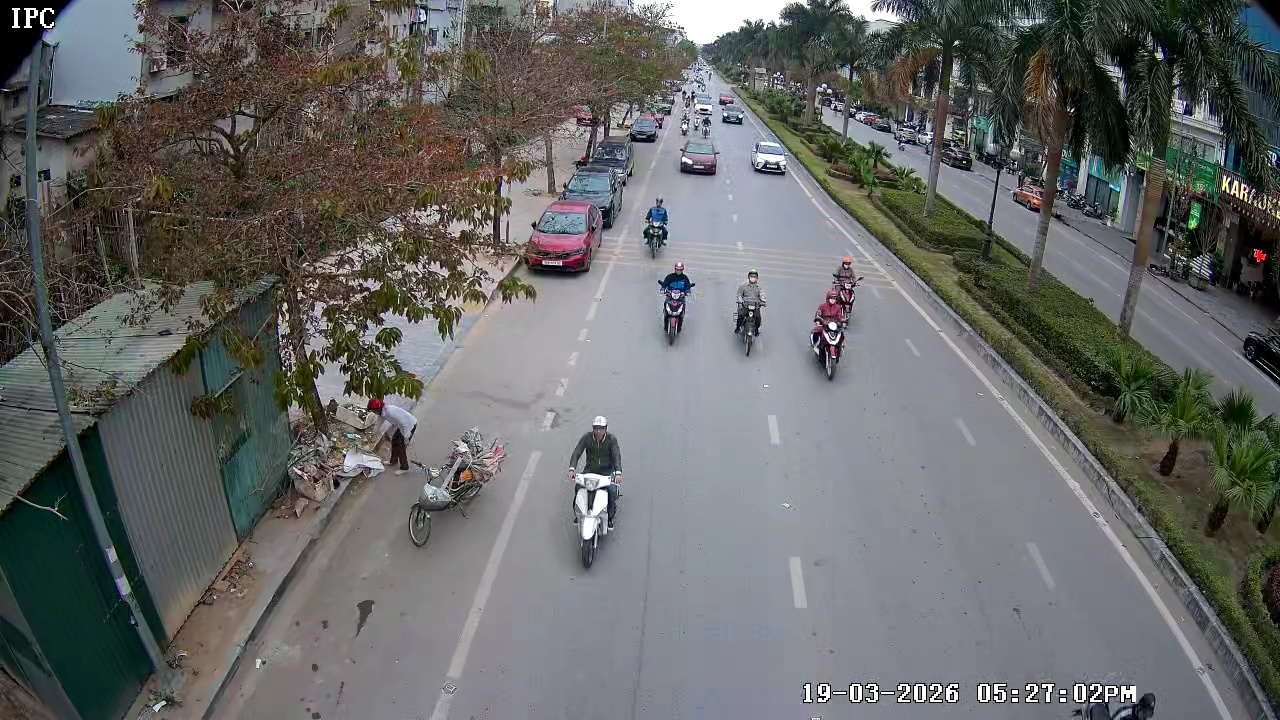bike: (394, 426, 482, 547)
car: (525, 199, 598, 277), (558, 162, 630, 233), (750, 140, 794, 180), (677, 136, 720, 176), (723, 105, 748, 128), (693, 97, 717, 116)
motorbike: (565, 414, 627, 570), (808, 281, 850, 380), (656, 261, 696, 346), (731, 268, 768, 358), (832, 255, 865, 319), (641, 195, 672, 259)
pedestrian: (365, 396, 418, 472)
